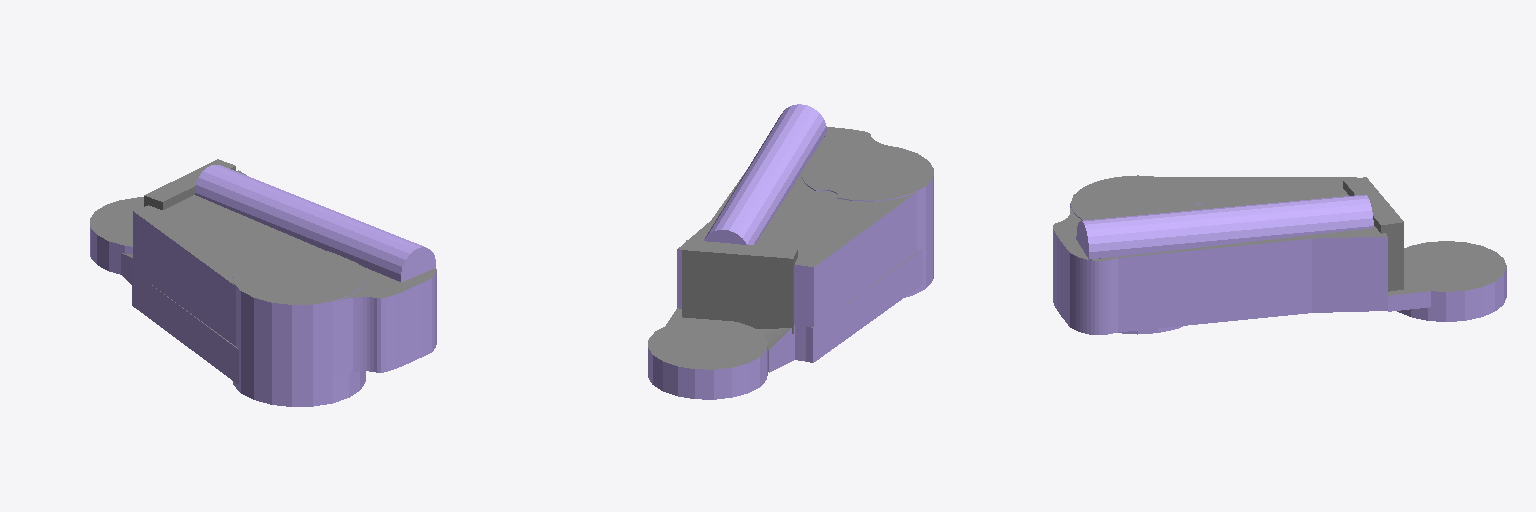
File: front_right_upper.obj
3 renders of one model, left to right at view 1: azimuth 30°, elevation 25°; view 2: azimuth 150°, elevation 25°; view 3: azimuth 270°, elevation 25°, orthographic.
Bounding box in the file's own units: 1.91 × 1.35 × 4.34.